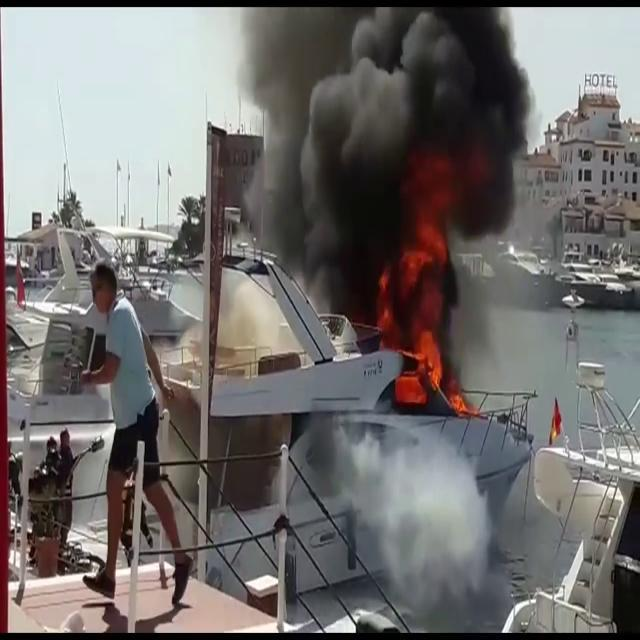Fire: (388, 198, 458, 406)
Smoke: (235, 2, 540, 306), (310, 407, 505, 629)
